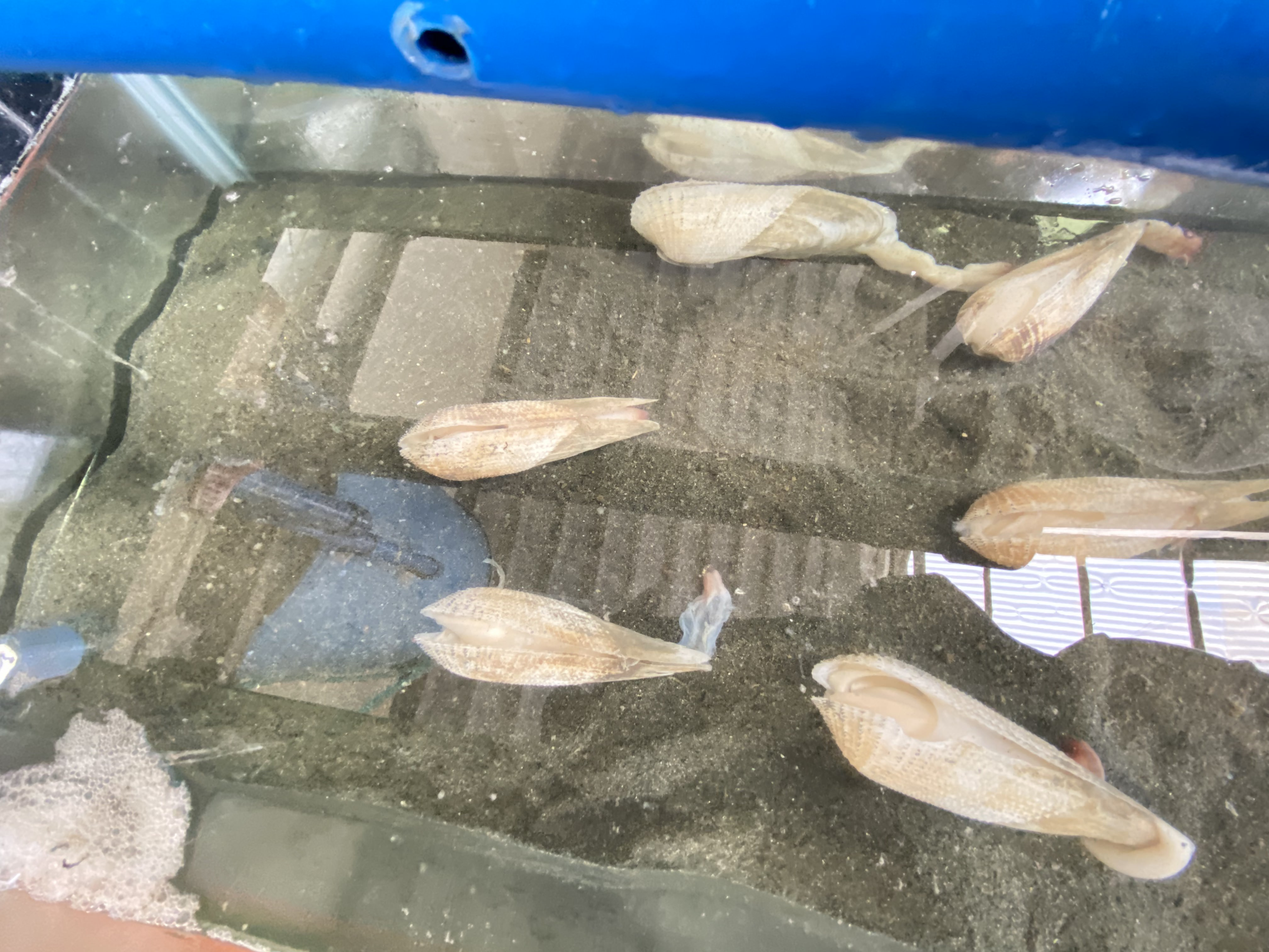At risk: (813, 654, 1194, 879), (631, 181, 1010, 290), (416, 569, 732, 686), (953, 221, 1200, 361), (955, 477, 1269, 569), (400, 397, 657, 480)
